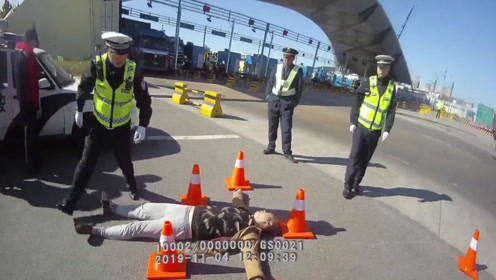fall: (72, 189, 283, 266)
